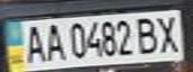0: (66, 19, 87, 60)
2: (115, 16, 136, 56)
4: (84, 18, 103, 58)
8: (100, 18, 118, 57)
A: (18, 21, 48, 64), (39, 20, 66, 63)
B: (133, 15, 163, 55)
X: (151, 12, 184, 54)
